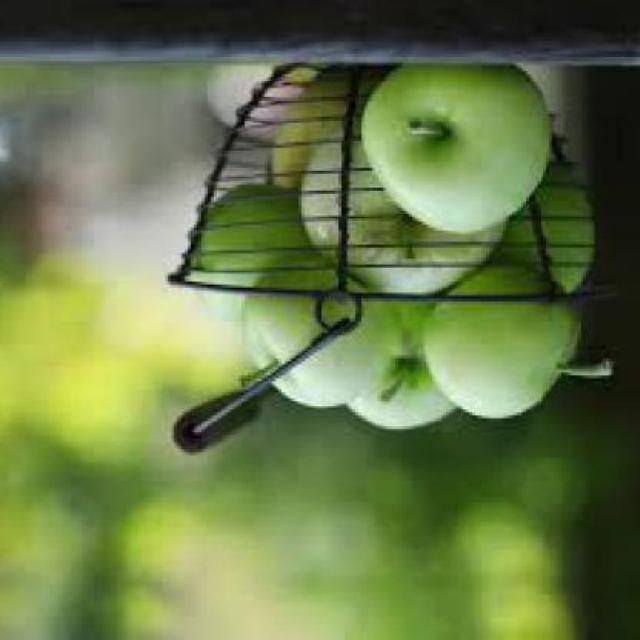BIODEGRADABLE: (302, 110, 515, 302), (363, 65, 554, 236), (420, 267, 618, 424), (194, 182, 332, 364), (245, 262, 392, 412), (469, 157, 600, 295), (347, 296, 461, 432), (276, 74, 378, 194)
